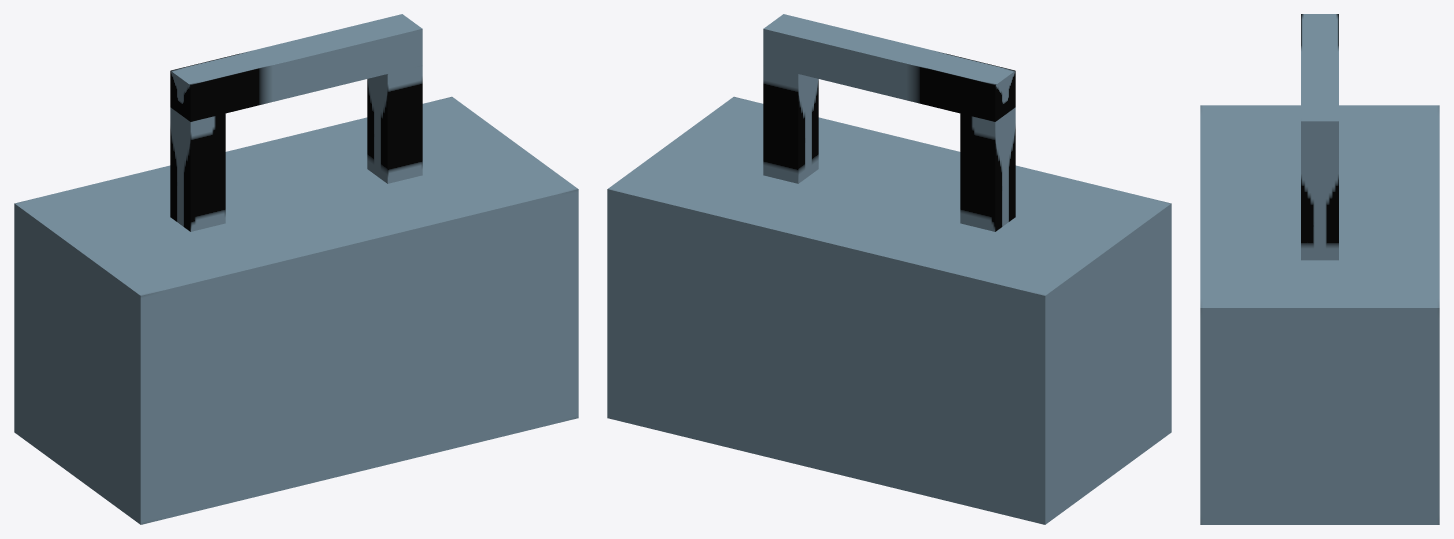
The model's file is toolbox_shifted.glb.
The picture shows the model from 3 angles, left to right: view 1: azimuth 30°, elevation 25°; view 2: azimuth 150°, elevation 25°; view 3: azimuth 270°, elevation 25°; orthographic projection. The views are drawn at different scales.
Size of the model in its own units: 2 by 1.64 by 1.
Materials: 1 (1 with a texture image).
